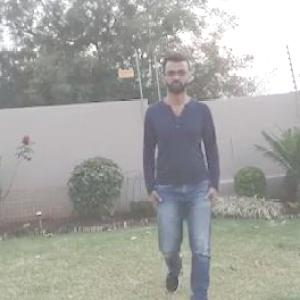follow: (152, 66, 218, 299)
